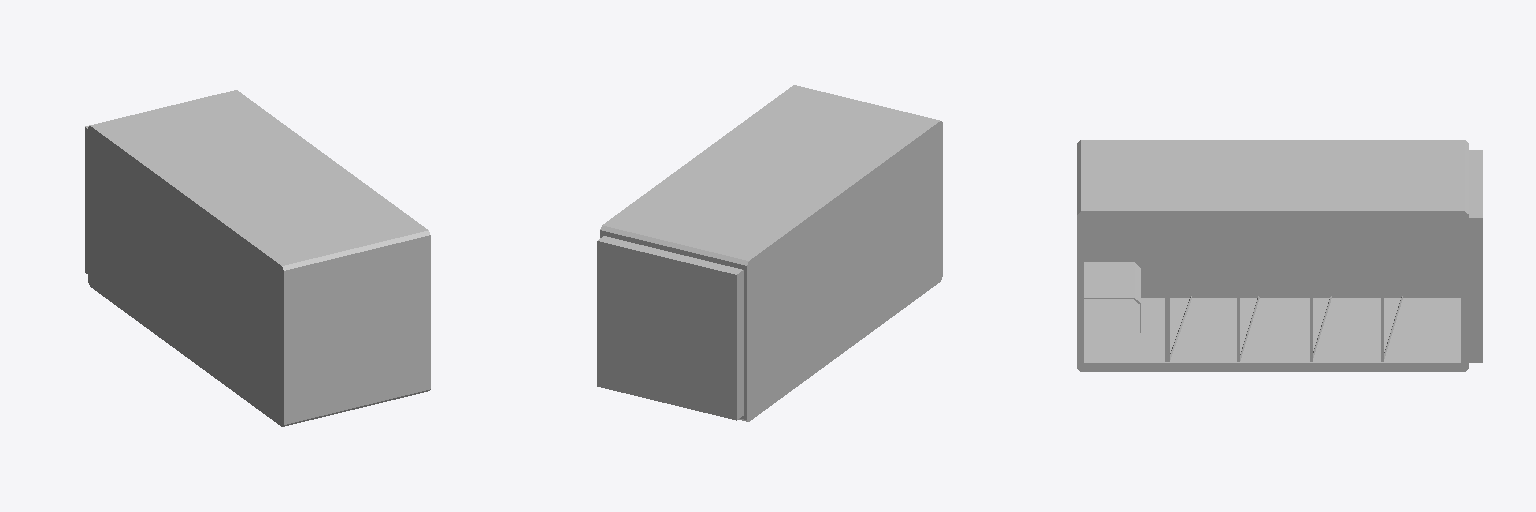
Rendered from refrigerator.obj.
3 renders of one model, left to right at view 1: azimuth 30°, elevation 25°; view 2: azimuth 150°, elevation 25°; view 3: azimuth 270°, elevation 25°, orthographic.
Parts seen in each view (by area): view 1: refrigerator; view 2: refrigerator; view 3: refrigerator.
Part boxes in pixels (bbox=[...]): refrigerator: bbox=[85, 90, 430, 426]; refrigerator: bbox=[597, 85, 942, 421]; refrigerator: bbox=[1077, 140, 1482, 371].
Size of the model in its own units: 31.41 by 32.92 by 75.07.